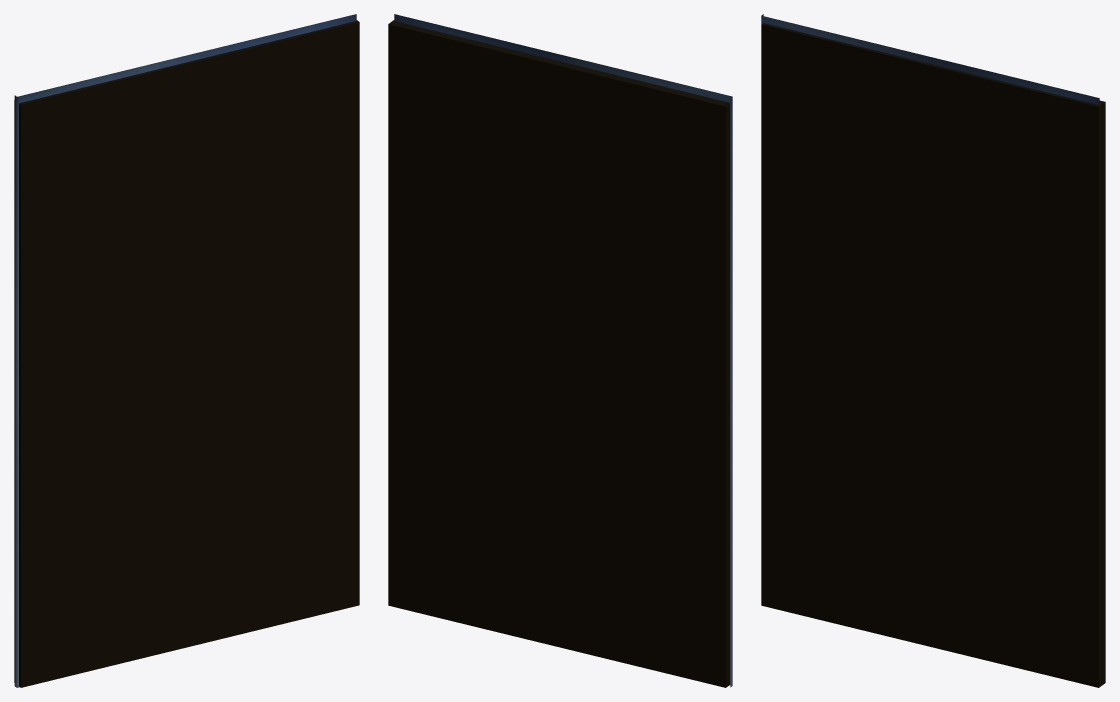
Rendered from door_col.obj.
3 renders of one model, left to right at view 1: azimuth 30°, elevation 25°; view 2: azimuth 150°, elevation 25°; view 3: azimuth 330°, elevation 25°, orthographic.
Parts seen in each view (by area): view 1: 空のオフィス_mesh.002_空のオフィス.002; view 2: 空のオフィス_mesh.002_空のオフィス.002; view 3: 空のオフィス_mesh.002_空のオフィス.002.
Boxes of the visible parts, x1=… form: 空のオフィス_mesh.002_空のオフィス.002: x1=14, y1=14, x2=359, y2=687; 空のオフィス_mesh.002_空のオフィス.002: x1=388, y1=14, x2=732, y2=687; 空のオフィス_mesh.002_空のオフィス.002: x1=761, y1=14, x2=1105, y2=687.
Size of the model in its own units: 2.47 by 4.1 by 0.0856.
3 materials, 3 textured.
